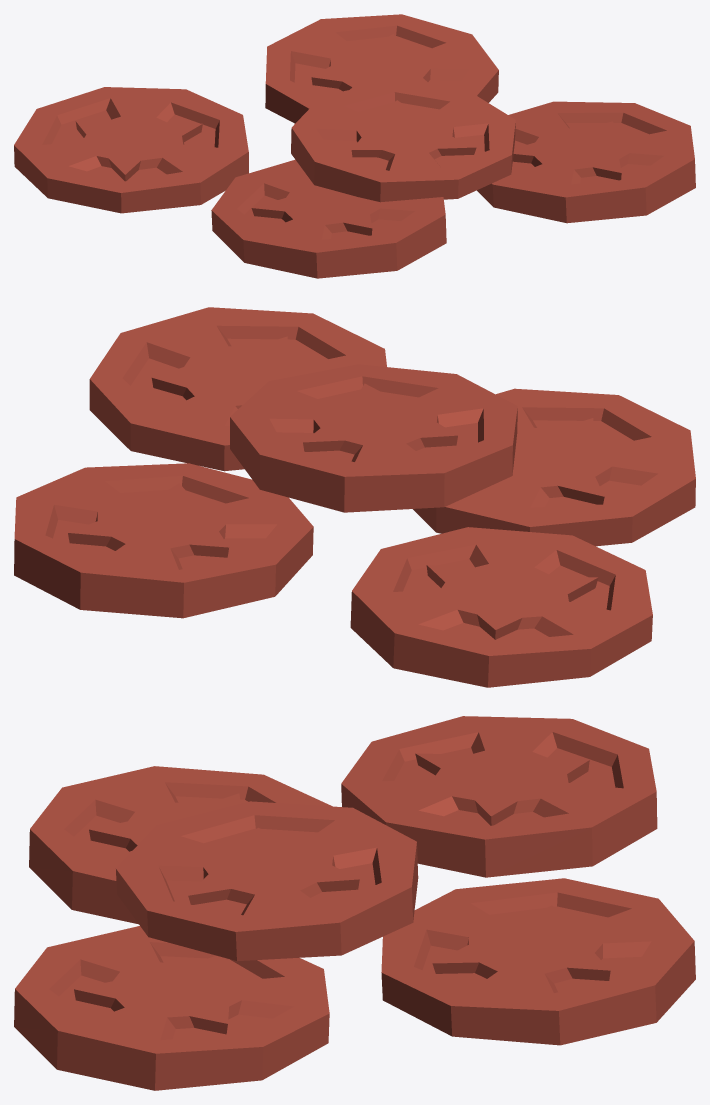
The model's file is Tomato_Slice.glb.
3 views of the same model, one above another, from view 1: azimuth 30°, elevation 25°; view 2: azimuth 150°, elevation 25°; view 3: azimuth 270°, elevation 25° (orthographic). The views are drawn at different scales.
Visible parts, largest first — view 1: Tomato_Slice; view 2: Tomato_Slice; view 3: Tomato_Slice.
Boxes of the visible parts, x1,y1,x2,y2 form: Tomato_Slice: (14,14,695,278); Tomato_Slice: (14,307,695,687); Tomato_Slice: (14,716,695,1090).
Size of the model in its own units: 0.8057 by 0.0765 by 0.6686.
